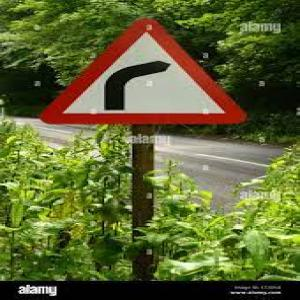bend right: (37, 19, 250, 128)
